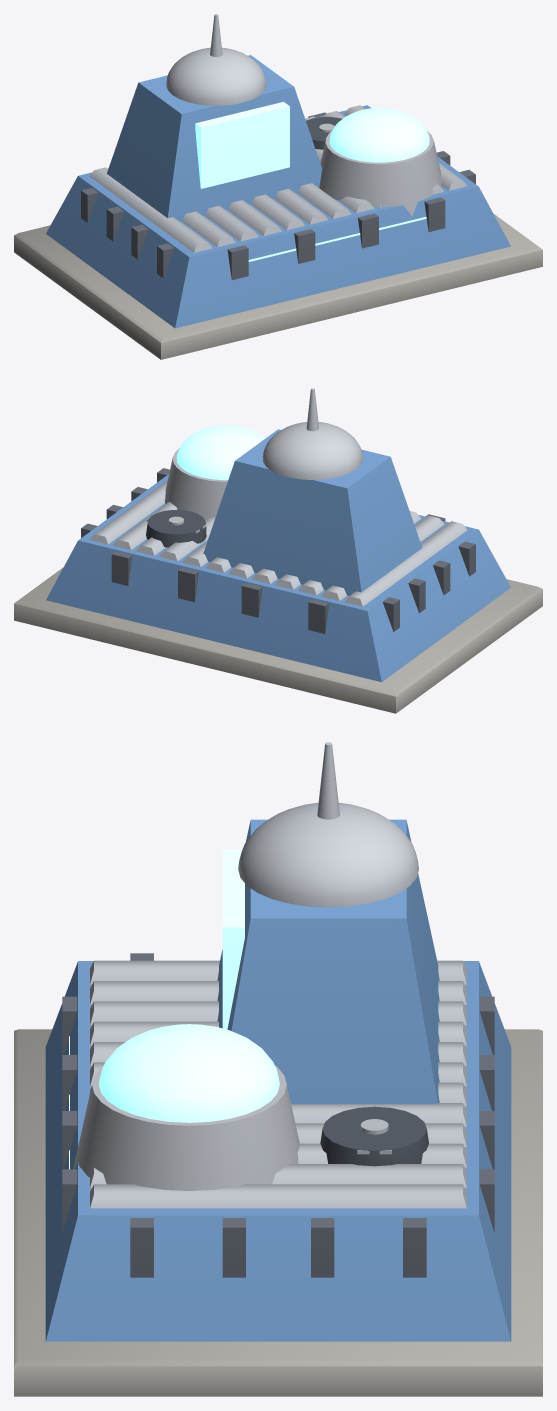
The model's file is gatech.glb.
3 views of the same model, one above another, from view 1: azimuth 30°, elevation 25°; view 2: azimuth 150°, elevation 25°; view 3: azimuth 270°, elevation 25° (orthographic). The views are drawn at different scales.
Visible parts, largest first — view 1: Hull; view 2: Hull; view 3: Hull.
Boxes of the visible parts, box(x1,y1,x2,y2) form: Hull: box(14, 14, 542, 359); Hull: box(14, 388, 542, 713); Hull: box(14, 742, 542, 1396).
Bounding box in the file's own units: 5.13 × 3.16 × 3.42.
